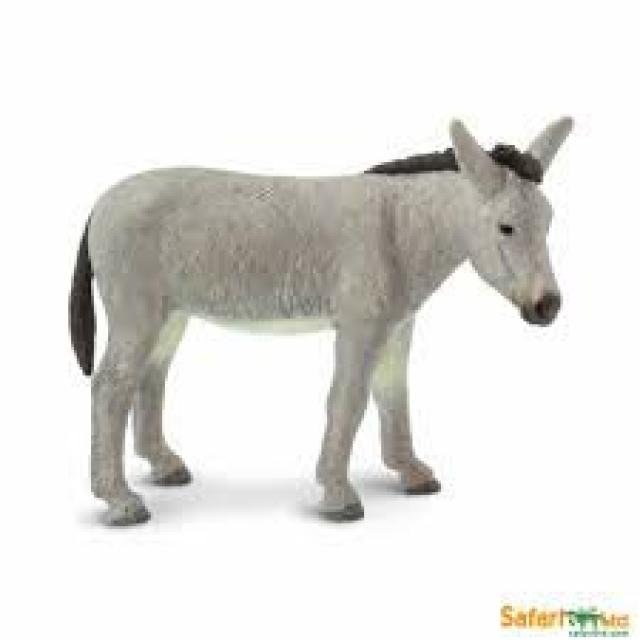Donkey: (58, 99, 578, 545)
